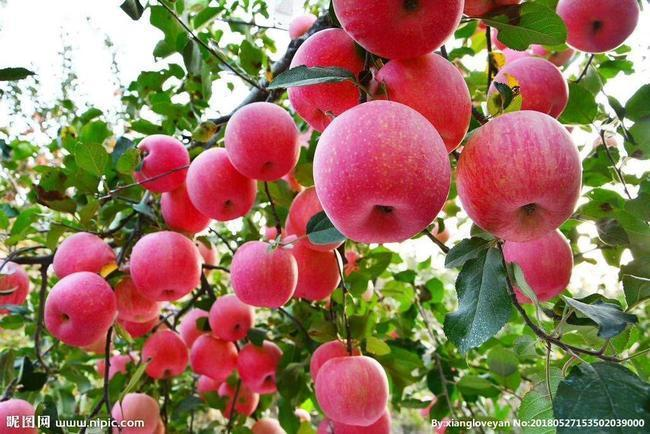apple: (312, 98, 451, 247), (454, 109, 583, 247), (368, 48, 474, 150), (287, 26, 377, 131), (330, 1, 464, 61), (223, 101, 301, 182), (45, 273, 119, 348), (312, 356, 390, 427), (490, 54, 570, 119), (132, 228, 201, 301), (186, 148, 255, 221), (231, 236, 298, 306), (557, 1, 641, 55), (132, 134, 191, 193), (51, 231, 116, 278), (251, 417, 287, 433)
